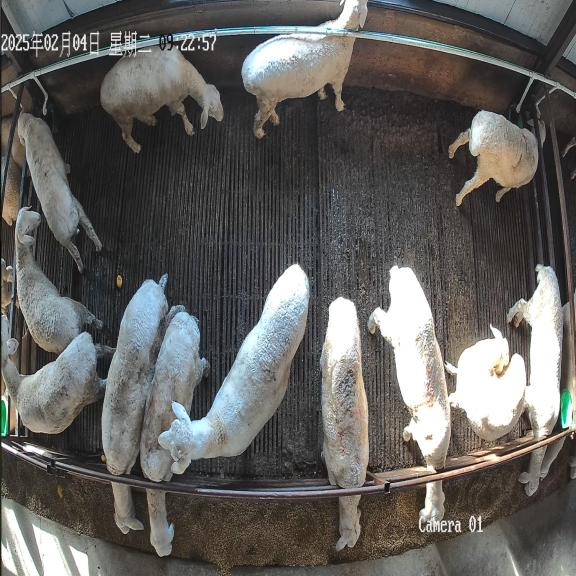drinking: (17, 113, 102, 272), (448, 110, 546, 206)
eating: (368, 266, 451, 523), (101, 275, 170, 534), (140, 305, 209, 556), (507, 264, 563, 496), (320, 297, 369, 551)
stand: (158, 264, 309, 473), (241, 0, 367, 139), (100, 46, 223, 153), (14, 207, 102, 354), (2, 324, 110, 433), (447, 326, 526, 441)
